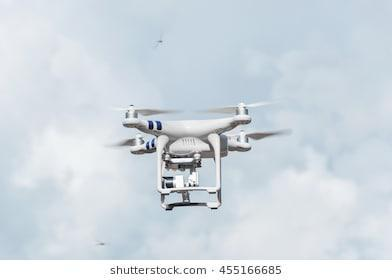drone: (112, 97, 292, 213)
